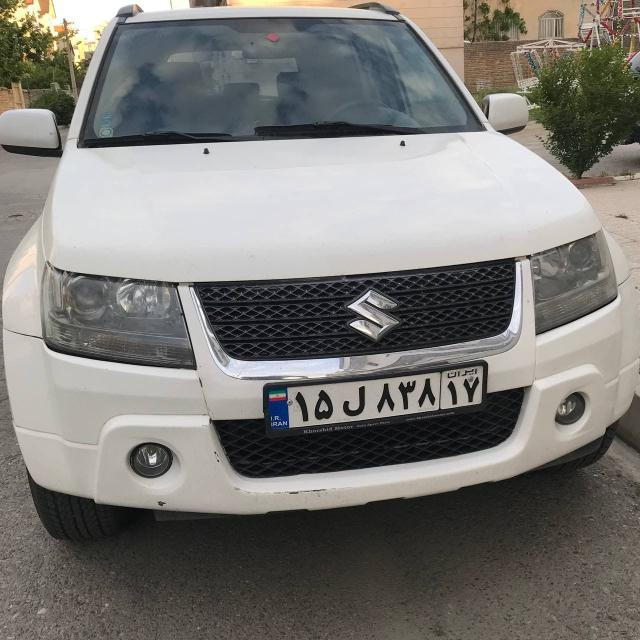Plates: (264, 360, 489, 431)
